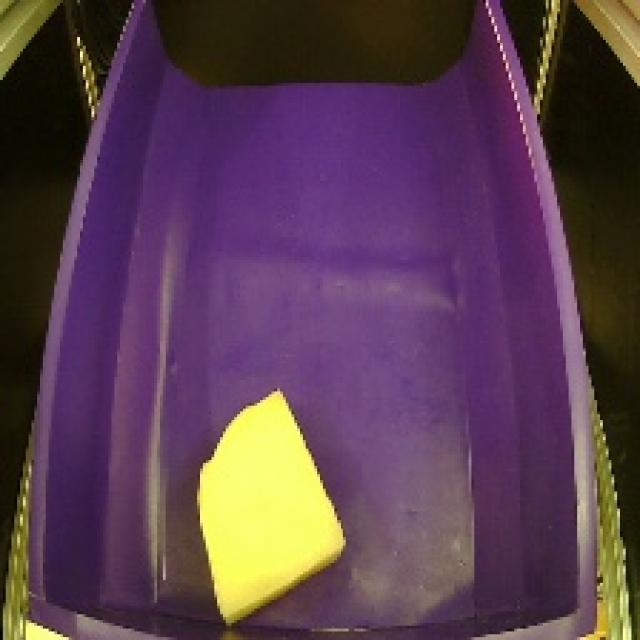potato: (185, 374, 354, 630)
